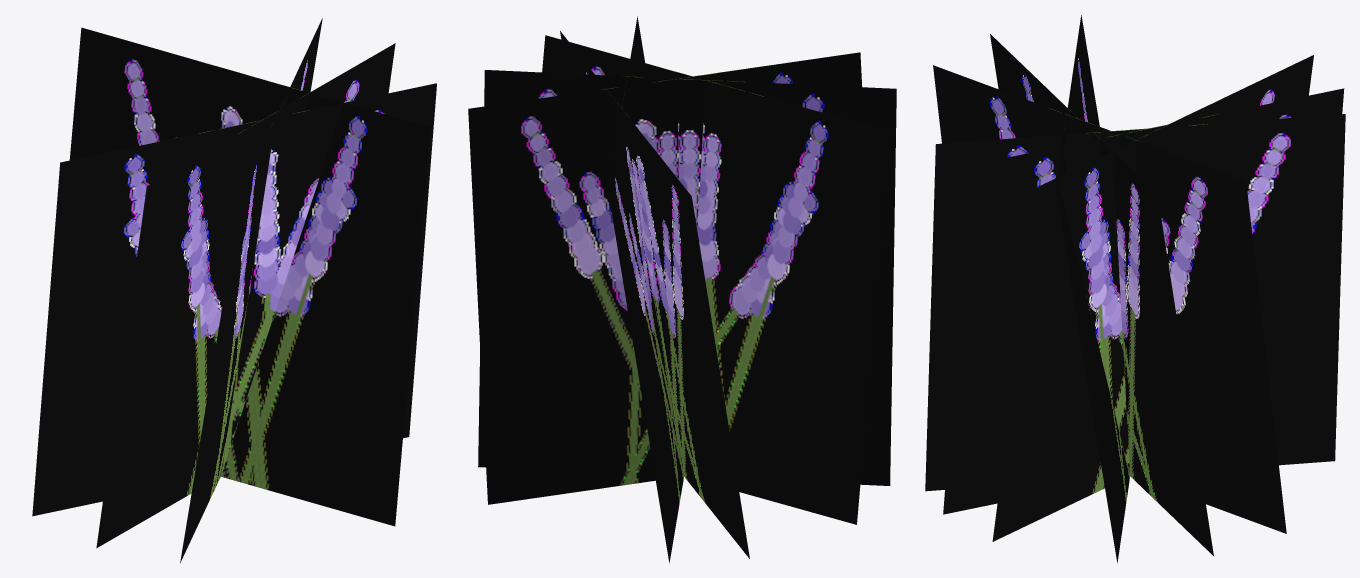
File: lavender.glb
The picture shows the model from 3 angles, left to right: view 1: azimuth 30°, elevation 25°; view 2: azimuth 150°, elevation 25°; view 3: azimuth 270°, elevation 25°; orthographic projection.
Visible parts, largest first — view 1: lavender; view 2: lavender; view 3: lavender.
Boxes of the visible parts, x1,y1,x2,y2 form: lavender: (32,18,436,563); lavender: (468,16,896,563); lavender: (925,15,1345,563).
Size of the model in its own units: 0.7691 by 0.7417 by 0.758.
Materials: 1 (1 with a texture image).
